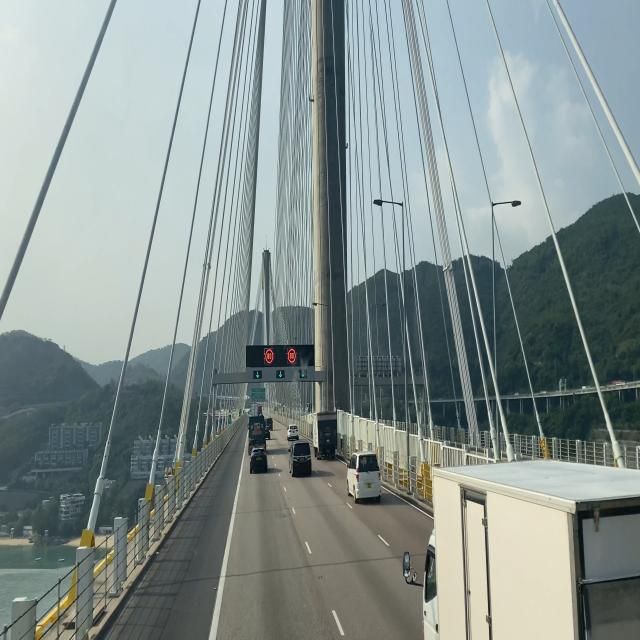Car: (409, 463, 640, 640), (346, 449, 382, 505), (310, 410, 341, 462), (288, 441, 313, 483), (248, 444, 270, 477)
